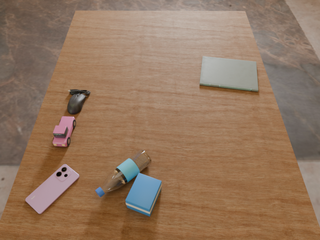book: (200, 56, 258, 91)
bottle: (95, 150, 151, 197)
box: (126, 173, 162, 216)
mouse: (67, 89, 90, 114)
phone: (26, 164, 79, 214)
toy_car: (53, 116, 76, 147)
